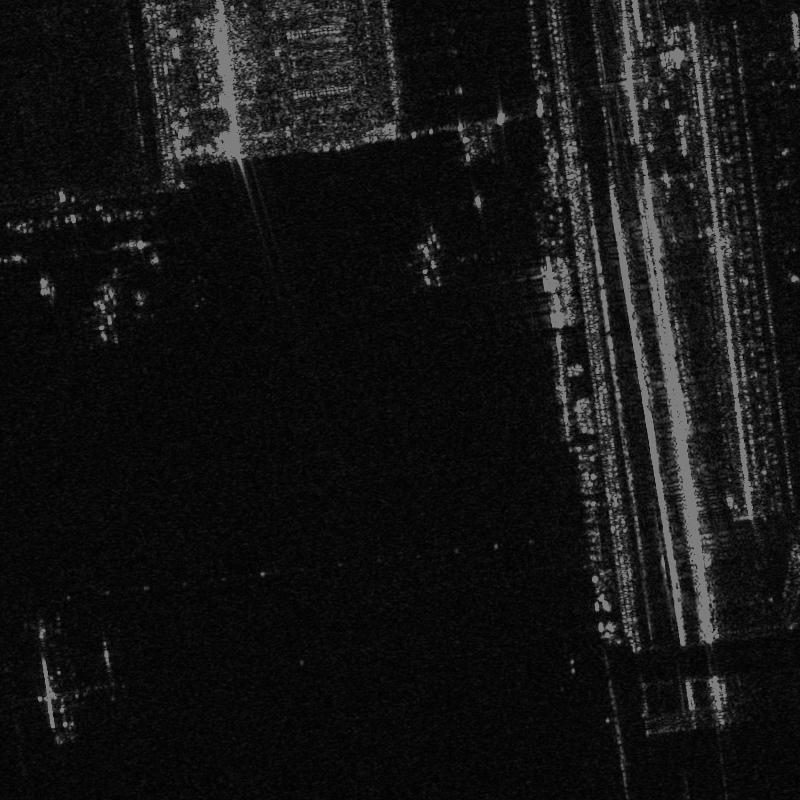A220: (65, 266, 148, 345)
A320/321: (398, 229, 464, 293)
